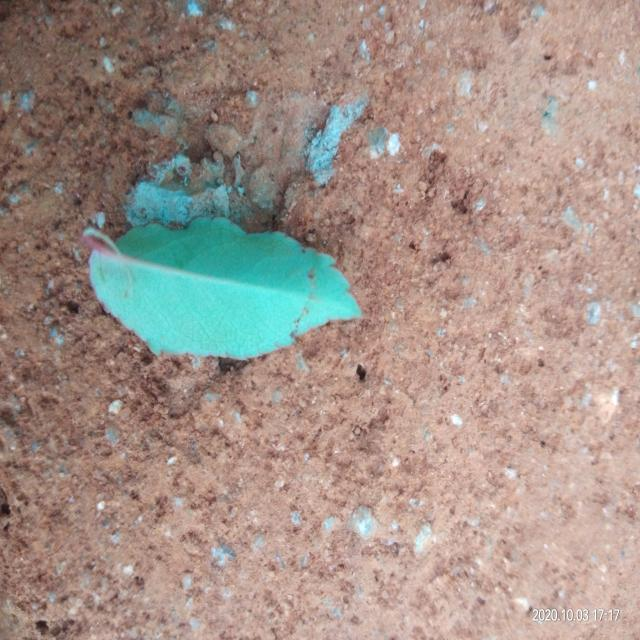rose: (82, 218, 361, 358)
